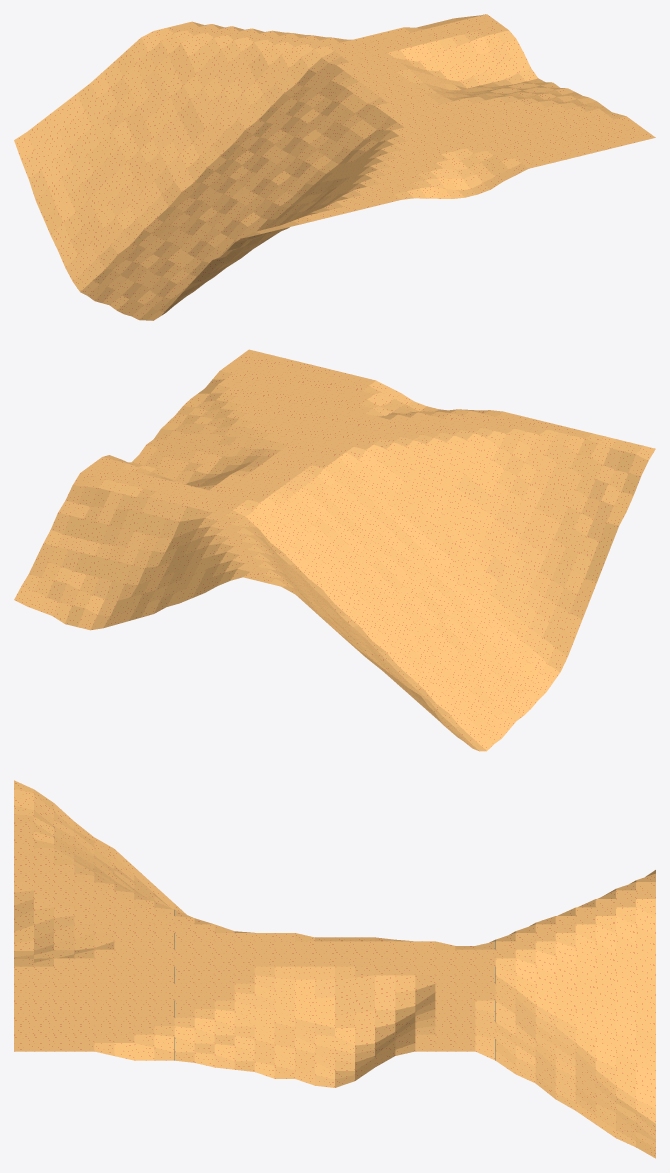
Rendered from map_chunked_036.gltf.
3 renders of one model, top to bottom at view 1: azimuth 30°, elevation 25°; view 2: azimuth 150°, elevation 25°; view 3: azimuth 270°, elevation 25°, orthographic. The views are drawn at different scales.
Visible parts, largest first — view 1: map_chunked.036; view 2: map_chunked.036; view 3: map_chunked.036.
Boxes of the visible parts, x1,y1,x2,y2 form: map_chunked.036: [14, 14, 655, 320]; map_chunked.036: [14, 349, 655, 751]; map_chunked.036: [14, 780, 655, 1158].
Size of the model in its own units: 32 by 13.43 by 32.
1 material, 1 textured.
